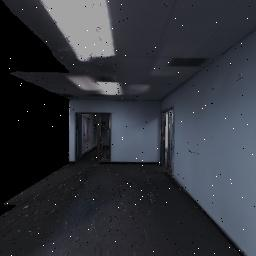door-frame: (72, 112, 120, 170), (157, 108, 177, 178)
